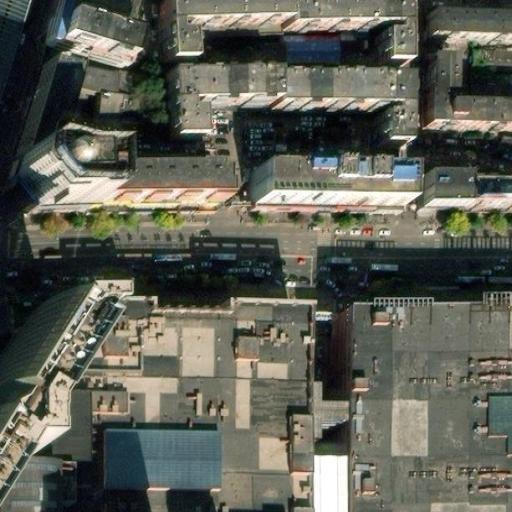building: (339, 309, 512, 512), (72, 411, 308, 512), (72, 311, 308, 411), (270, 83, 399, 154), (169, 75, 270, 149), (0, 330, 63, 446), (275, 3, 391, 65), (420, 54, 512, 129), (244, 169, 392, 209), (23, 65, 73, 156), (95, 181, 218, 214), (54, 0, 136, 47), (14, 174, 85, 223), (67, 18, 137, 64), (424, 9, 512, 36), (308, 464, 339, 512), (100, 94, 128, 147), (455, 189, 512, 213), (422, 177, 455, 213), (284, 36, 337, 58), (308, 399, 339, 430), (468, 74, 512, 92)
